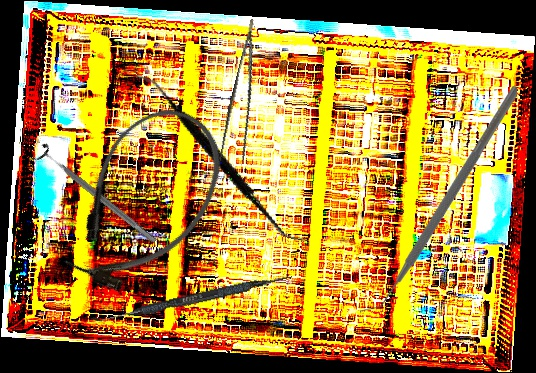Cannula: (42, 87, 247, 313)
Chopper: (360, 86, 517, 313)
Fixation Ring: (30, 140, 163, 251)
Spatula Surgical: (103, 73, 338, 243), (91, 268, 293, 330)
Tissue Forceps: (214, 18, 277, 174)
